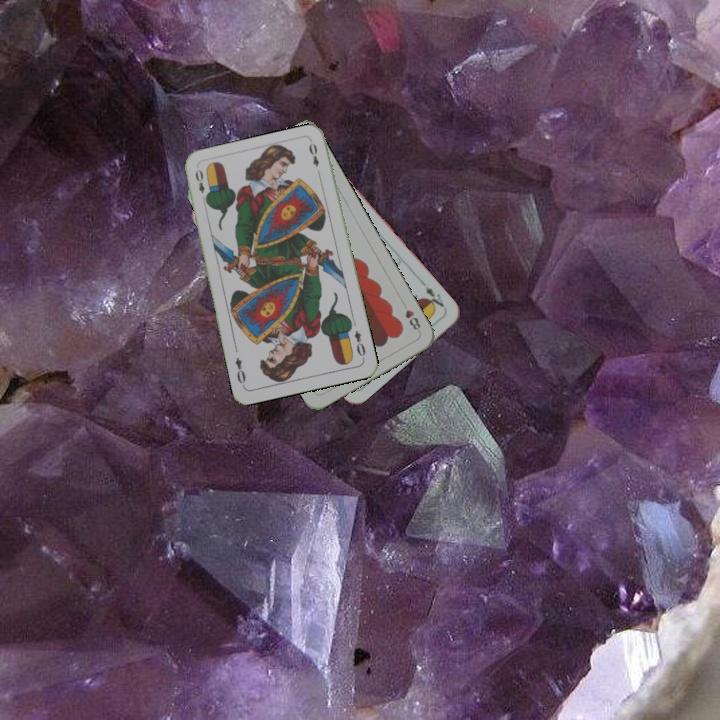EA: (418, 278, 446, 312)
EO: (191, 165, 210, 205), (350, 326, 368, 362)
H8: (398, 298, 423, 335)
